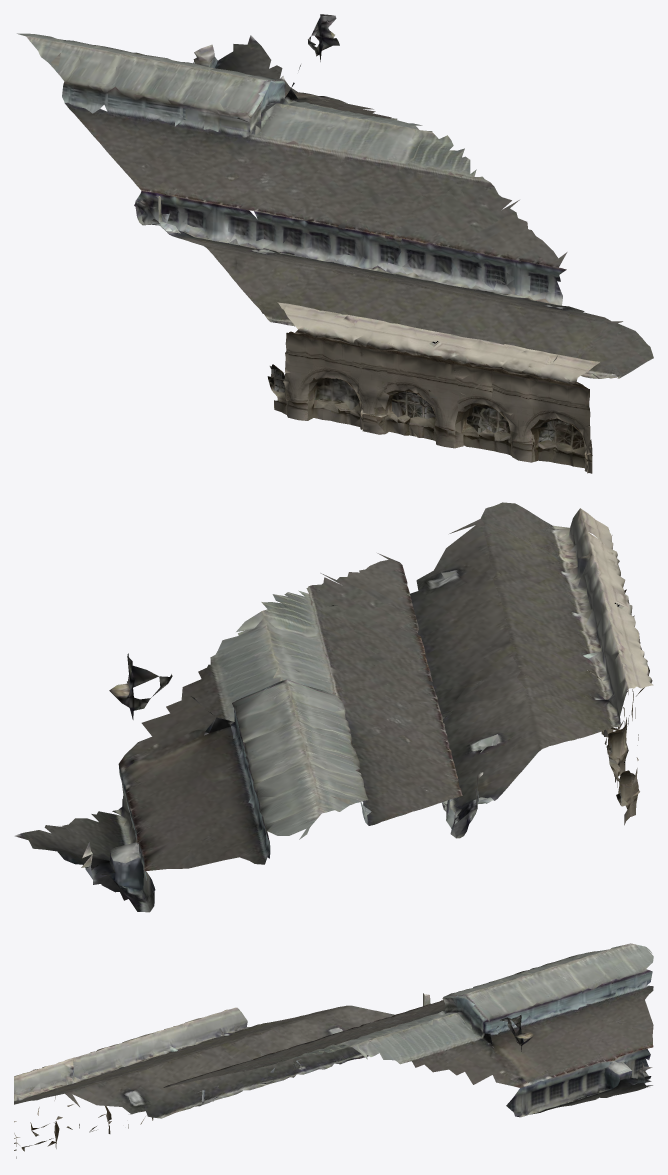
3 renders of one model, top to bottom at view 1: azimuth 30°, elevation 25°; view 2: azimuth 150°, elevation 25°; view 3: azimuth 270°, elevation 25°, orthographic. The views are drawn at different scales.
Bounding box in the file's own units: 15.25 × 12.34 × 43.34.
1 material, 1 textured.
